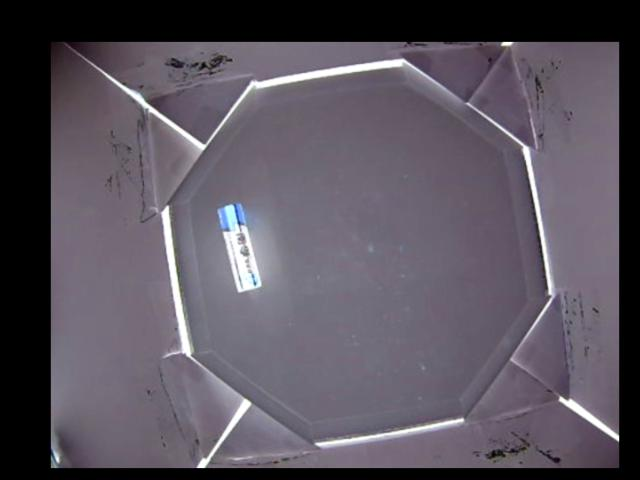Battery: (215, 204, 263, 293)
